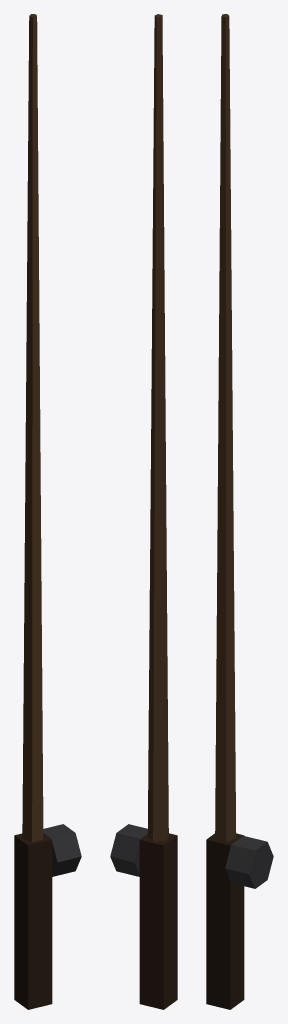
The model's file is fishing_rod.glb.
The picture shows the model from 3 angles, left to right: view 1: azimuth 30°, elevation 25°; view 2: azimuth 150°, elevation 25°; view 3: azimuth 330°, elevation 25°; orthographic projection.
Visible parts, largest first — view 1: FishingRod; view 2: FishingRod; view 3: FishingRod.
Boxes of the visible parts, bbox=[...] form: FishingRod: bbox=[14, 14, 81, 1009]; FishingRod: bbox=[110, 14, 177, 1009]; FishingRod: bbox=[206, 14, 273, 1009].
Size of the model in its own units: 0.08 by 1.56 by 0.07.
